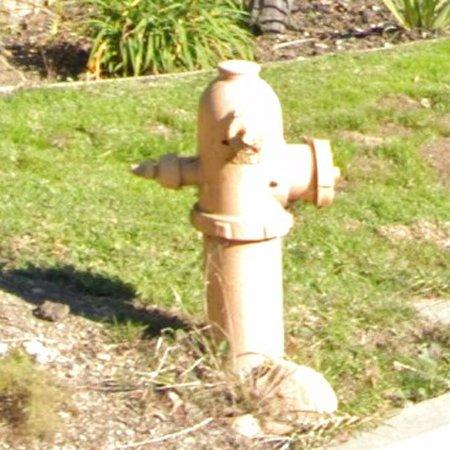a fire hydrant: (289, 365, 337, 414)
